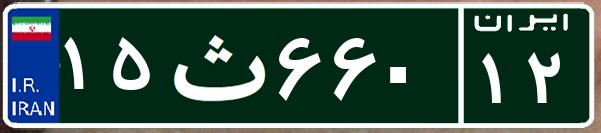0: (385, 28, 445, 110)
1: (57, 26, 110, 107), (475, 38, 525, 113)
2: (525, 38, 570, 115)
5: (110, 28, 158, 105)
6: (273, 28, 330, 110), (330, 28, 385, 110)
ث: (158, 15, 273, 115)
